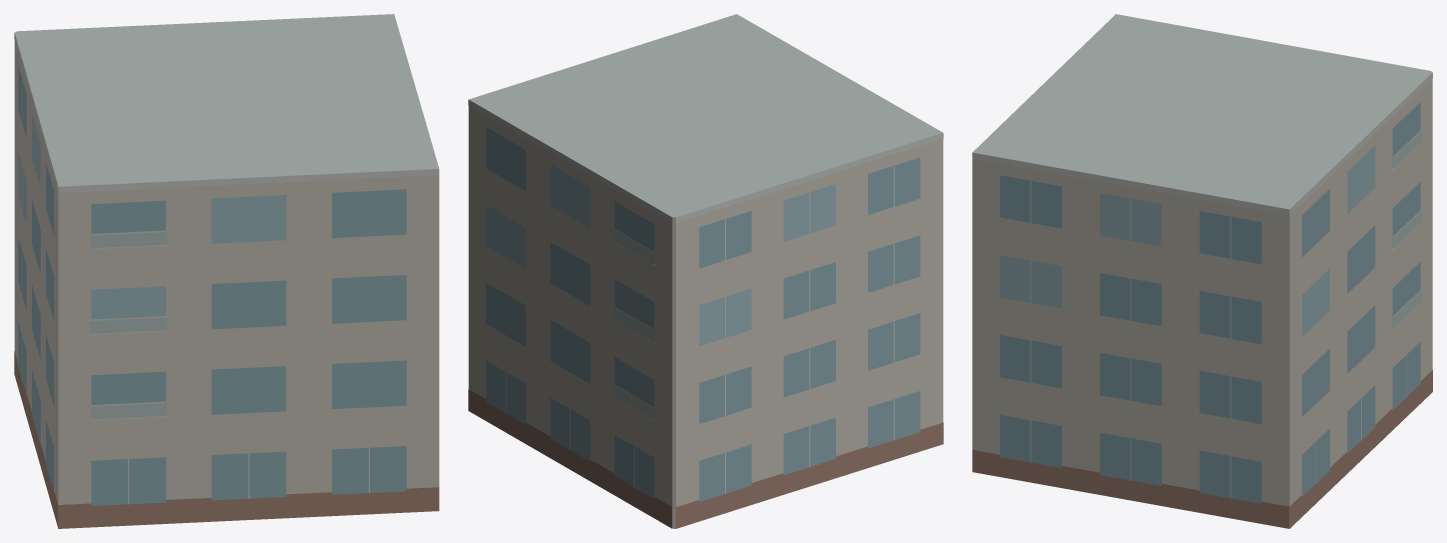
Rendered from survey-upis-33047191.glb.
The picture shows the model from 3 angles, left to right: view 1: azimuth 30°, elevation 25°; view 2: azimuth 150°, elevation 25°; view 3: azimuth 270°, elevation 25°; orthographic projection. The views are drawn at different scales.
Parts seen in each view (by area): view 1: survey-upis-33047191.tmp; view 2: survey-upis-33047191.tmp; view 3: survey-upis-33047191.tmp.
Boxes of the visible parts, x1,y1,x2,y2 form: survey-upis-33047191.tmp: [14, 14, 439, 528]; survey-upis-33047191.tmp: [468, 14, 943, 528]; survey-upis-33047191.tmp: [972, 14, 1432, 528].
Bounding box in the file's own units: 17.24 × 13.14 × 17.17.
